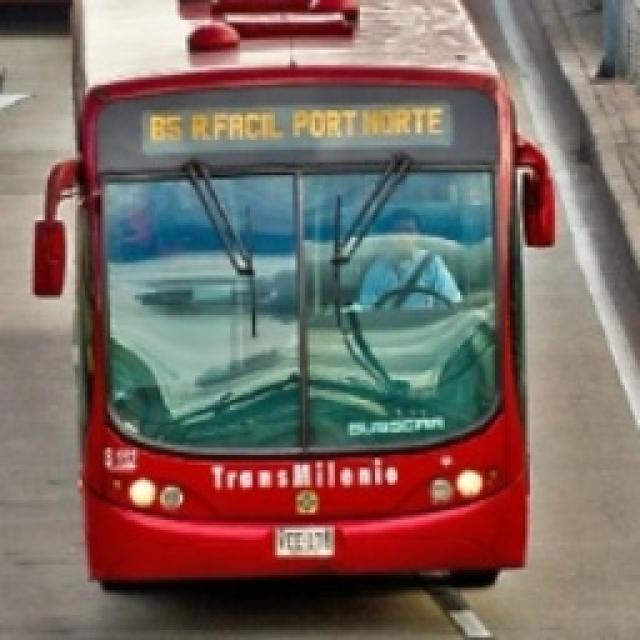windshield: (102, 164, 510, 460)
